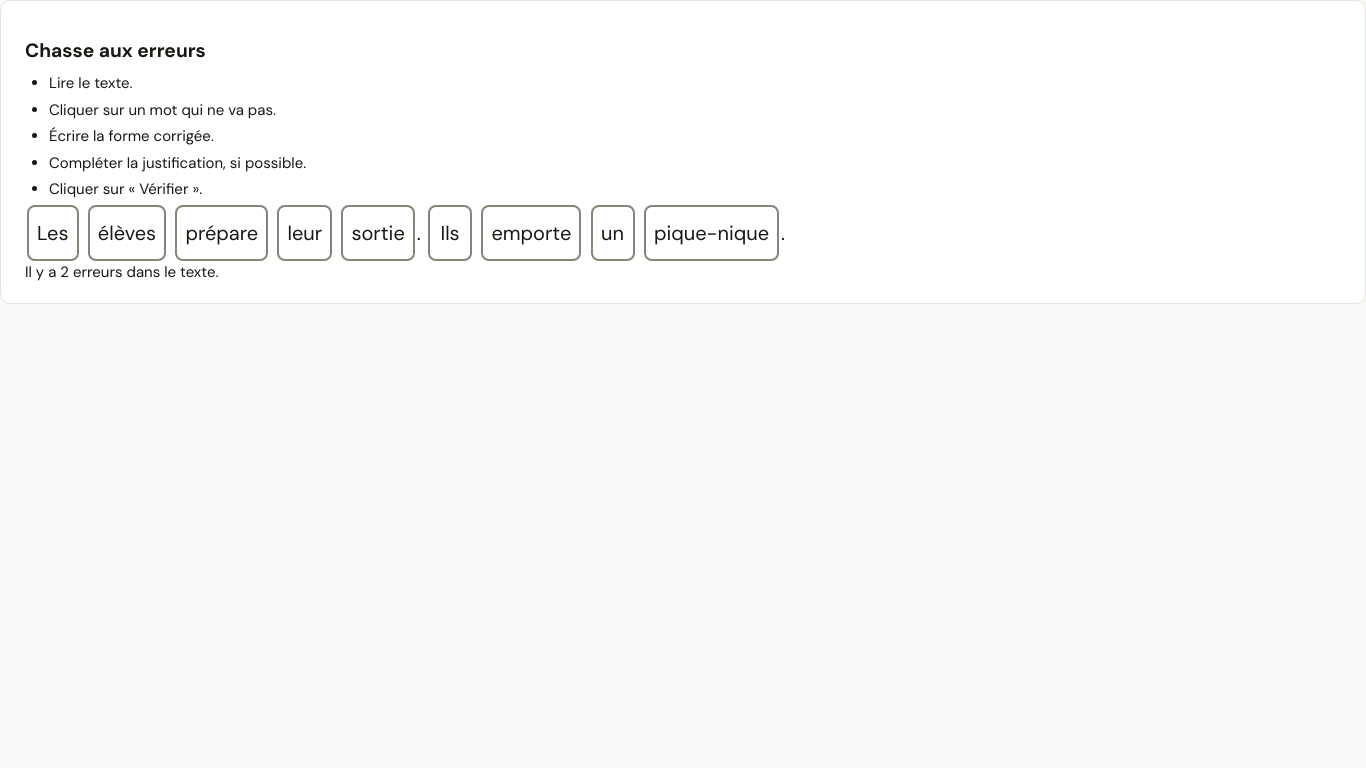
Test: Chasse : réponses qualitatives › indice : l’indice s’affiche, la forme proposée n’est pas jugée
This screenshot has width=1366, height=768.
Click the button "prépare": [222, 233] box 175,205 -> 268,261
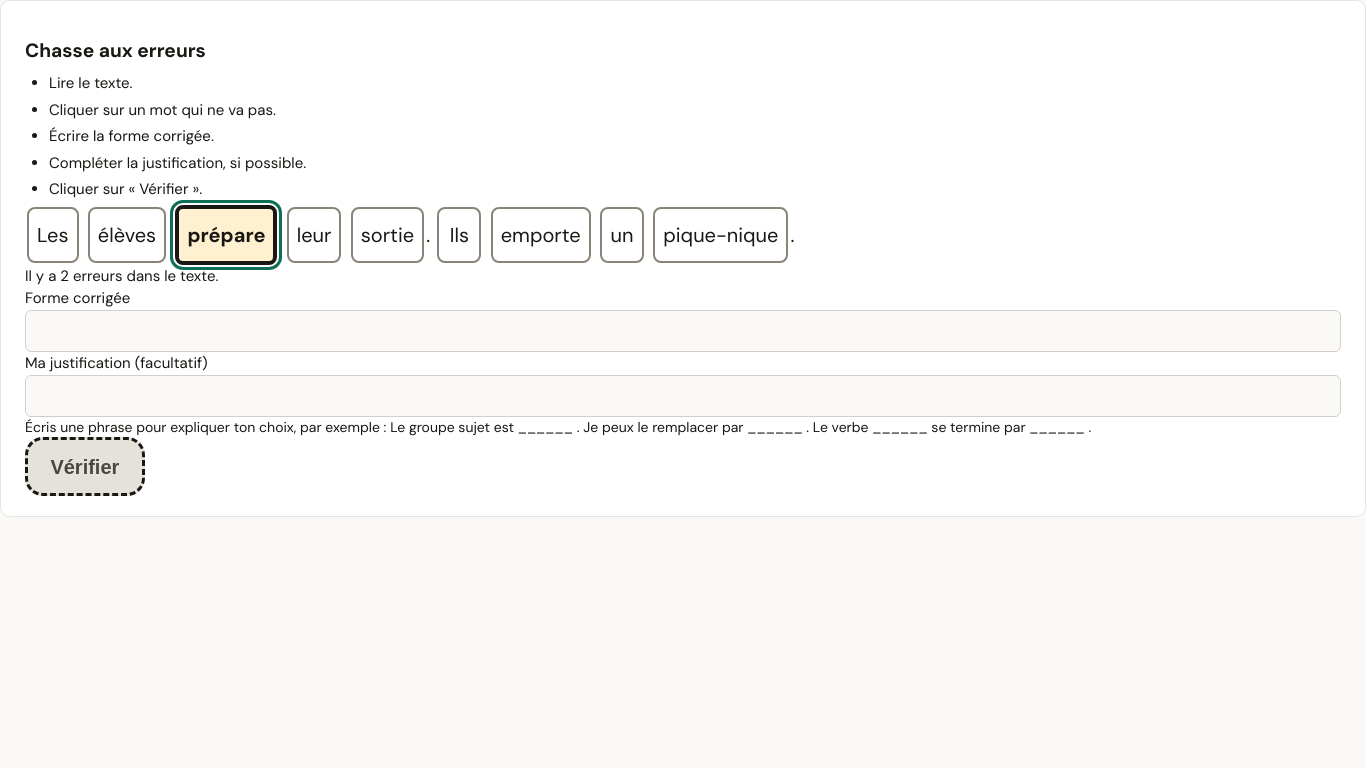
In the field labelled "Forme corrigée": [683, 331] box 25,310 -> 1341,352, type "prépares"
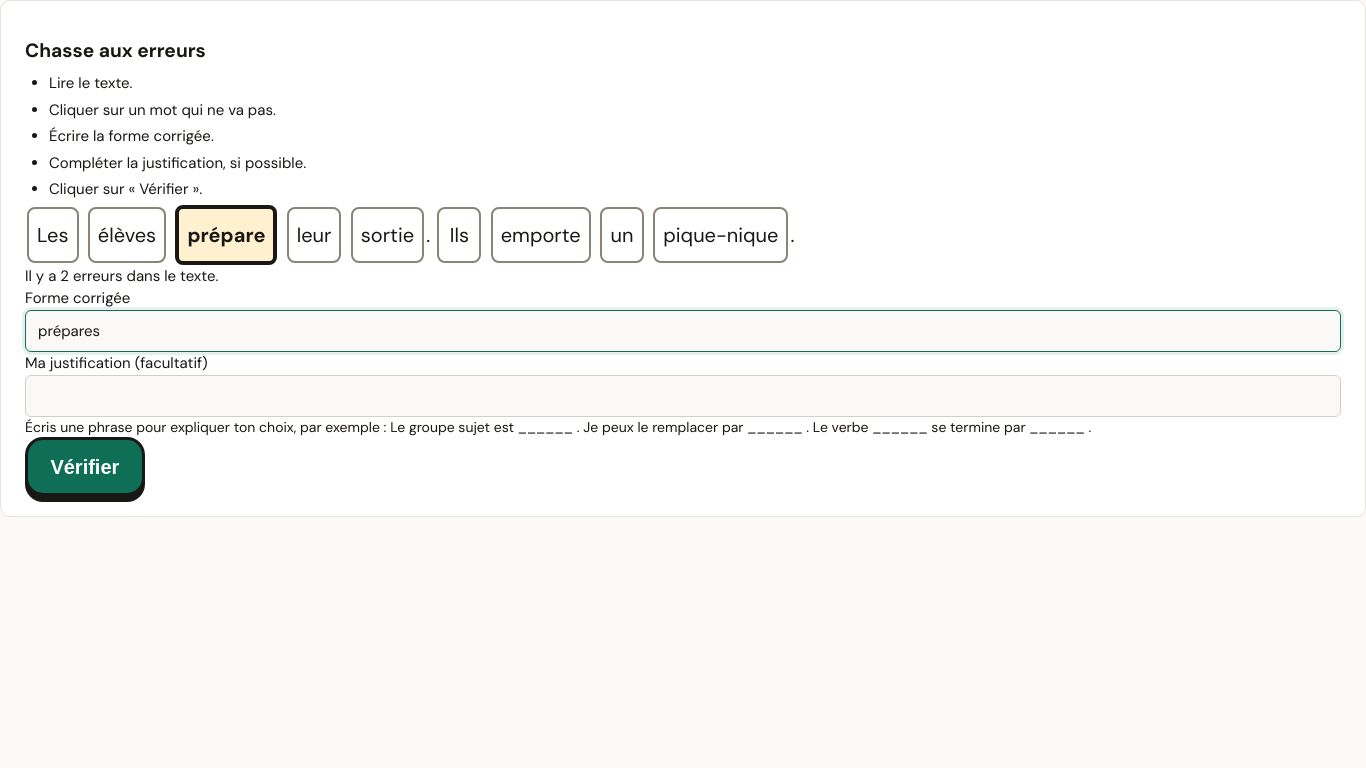
Click the button "Vérifier": [85, 467] box 25,437 -> 145,496
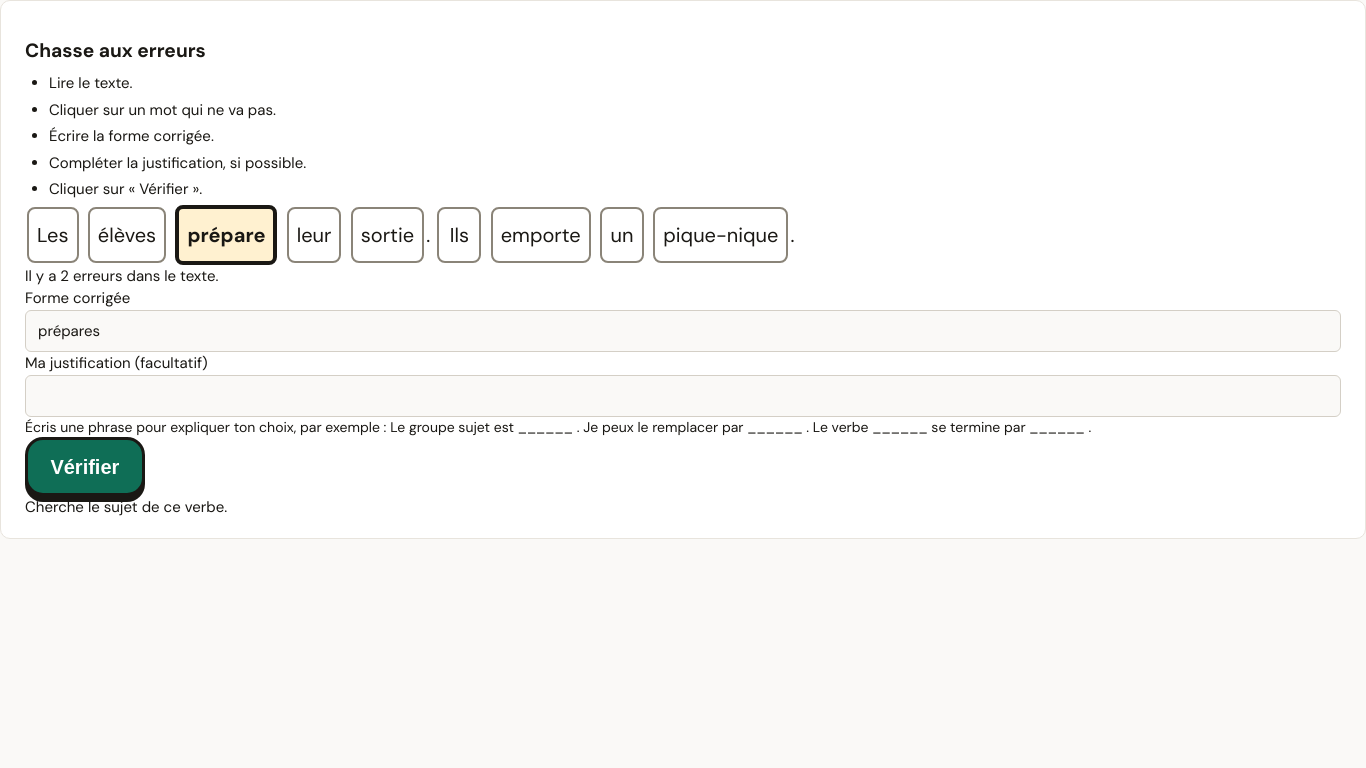
Expected: the text "Il y a 2 erreurs dans le texte." is shown, 25,266 -> 218,286
Expected: the message reads "Cherche le sujet de ce verbe.", 25,497 -> 227,517
